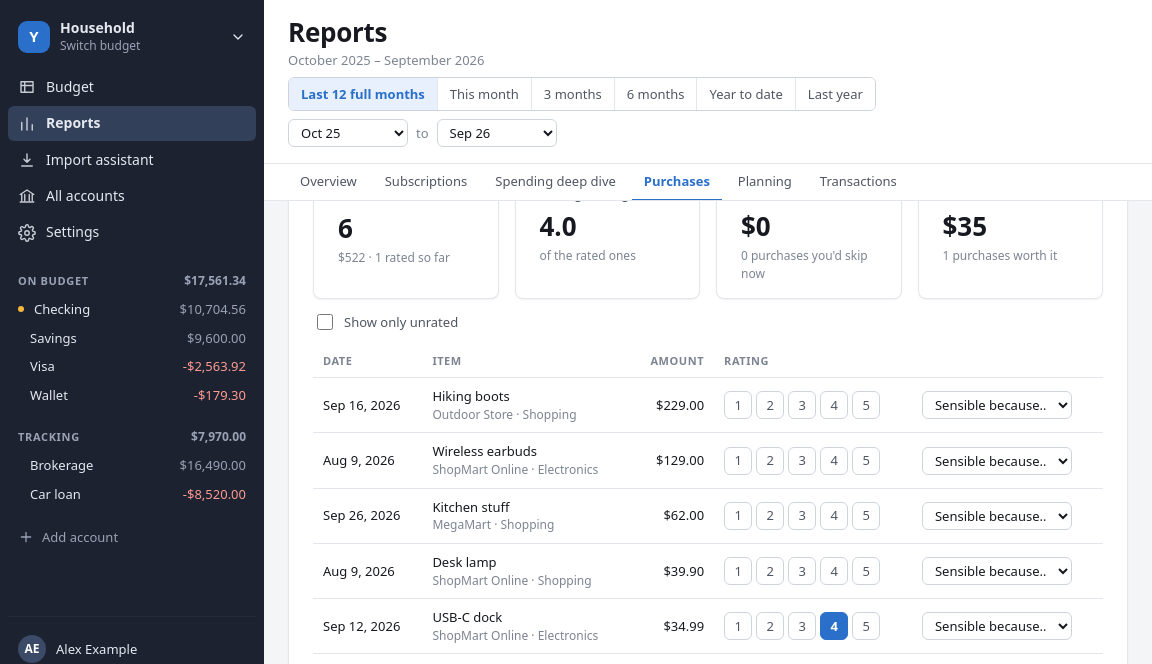
Test case: App › rates purchases and edits the device list
The width and height of the screenshot is (1152, 664).
Later steps or results of the test are not shown.
(page scrolled)
Click the button named "Rate 2" at (770, 460), box [756,446,784,474]
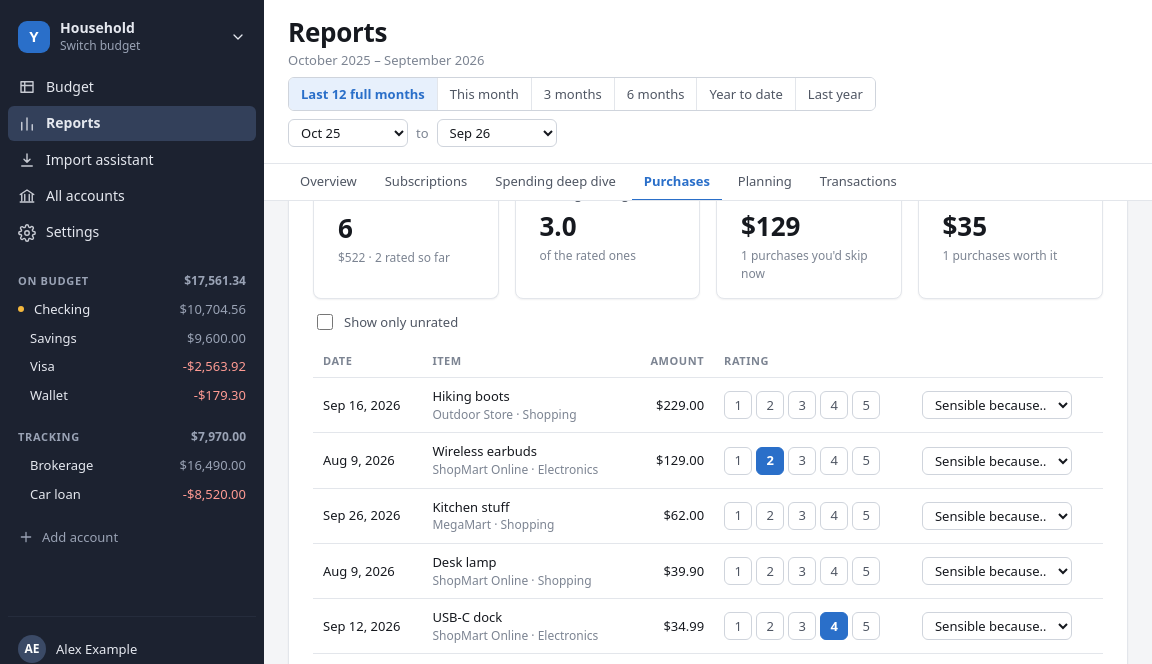
Expected: the button named "Rate 2" is pressed, [756,446,784,474]
Click the tab "Planning" at (765, 183), box [726,164,804,201]
(page scrolled)
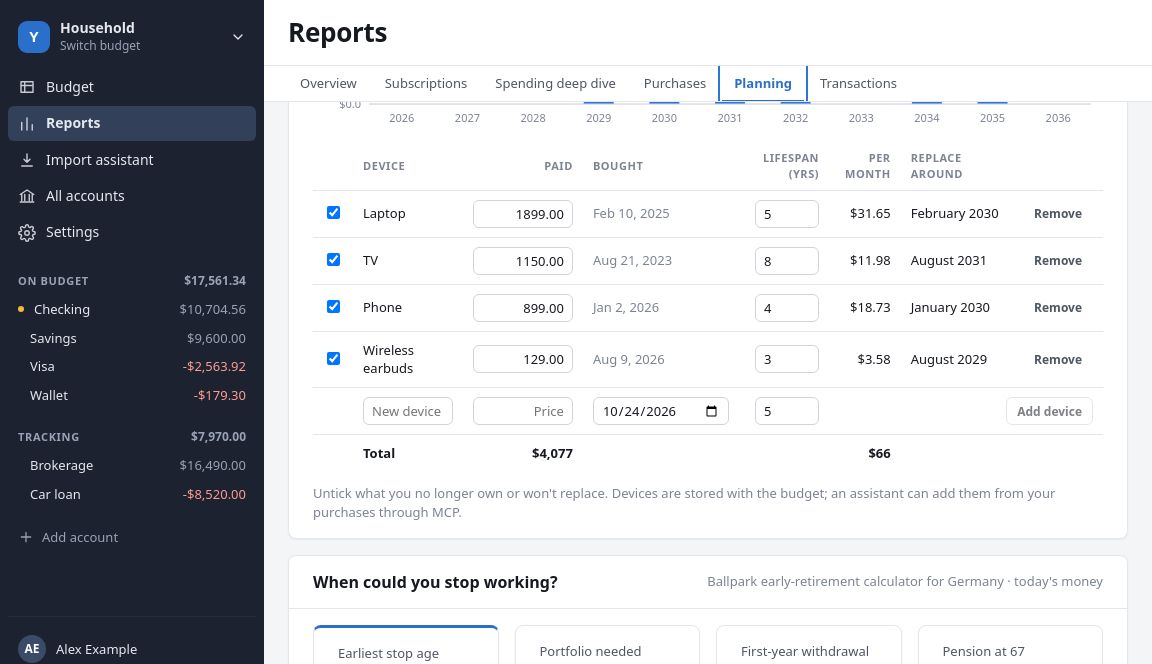
Type "E-reader" into the field named "New device name" at (408, 411), box [363,397,453,425]
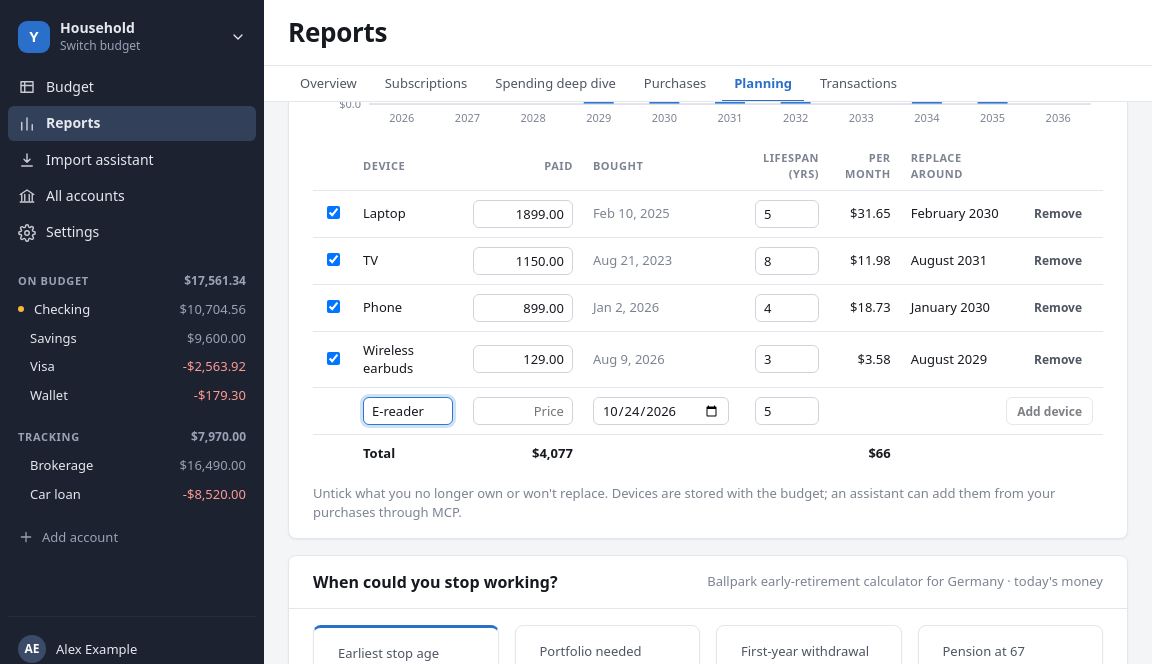
Type "250" into the field named "New device price" at (523, 411), box [473,397,573,425]
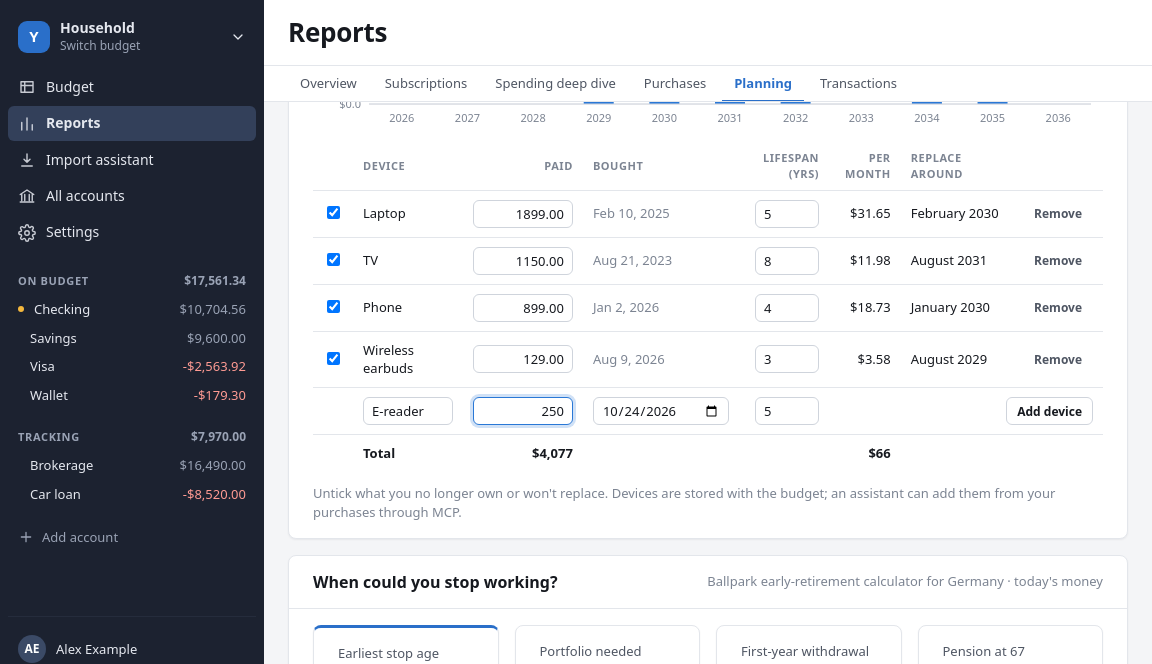
Click the button "Add device" at (1050, 411), box [1006,397,1093,425]
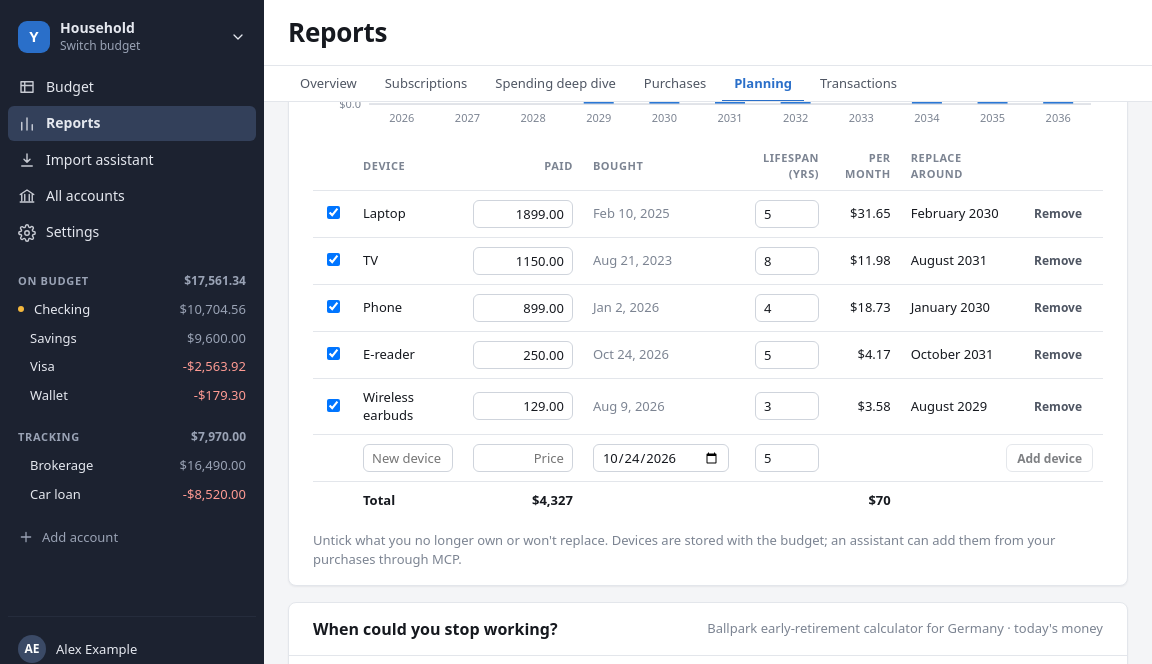
Expected: the text "E-reader" is shown, [353,331,463,378]
